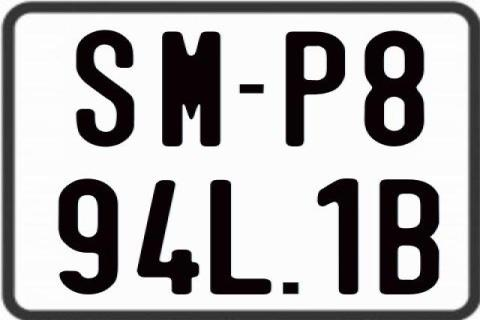0: (56, 177, 120, 297), (136, 178, 201, 296), (362, 30, 422, 146), (317, 179, 359, 299)
B: (380, 179, 442, 296)
L: (210, 178, 275, 294)
M: (160, 30, 221, 146)
P: (284, 31, 344, 149)
S: (74, 28, 138, 146)
